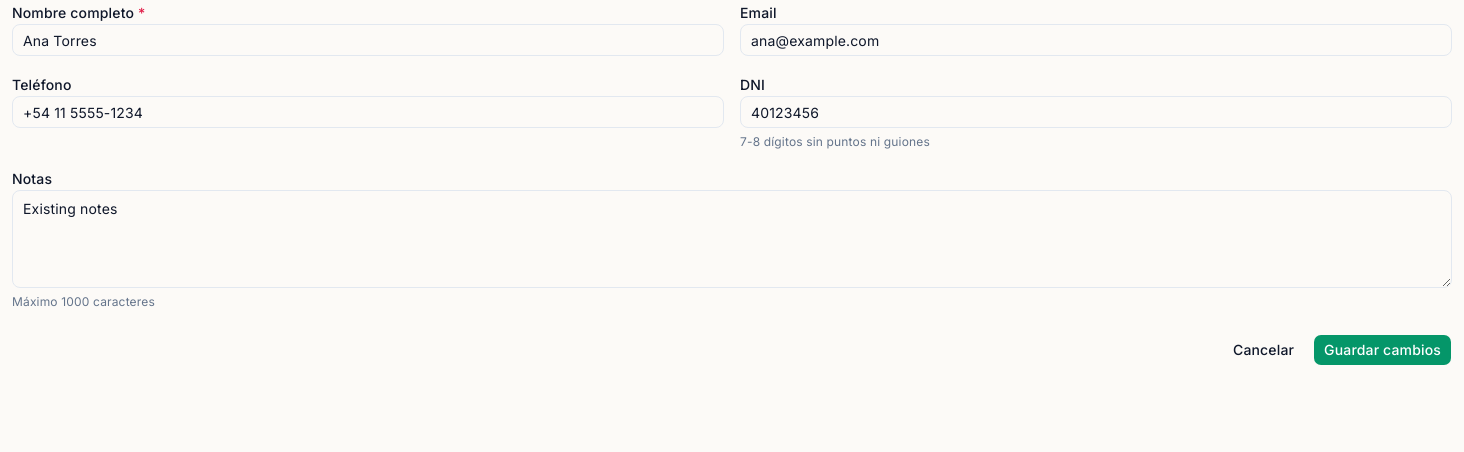
it: PatientForm — valid submit › displays the server error message inline when the action returns an error
Click the button "Guardar cambios". click: x=1383, y=350
box: [1313,334,1452,366]
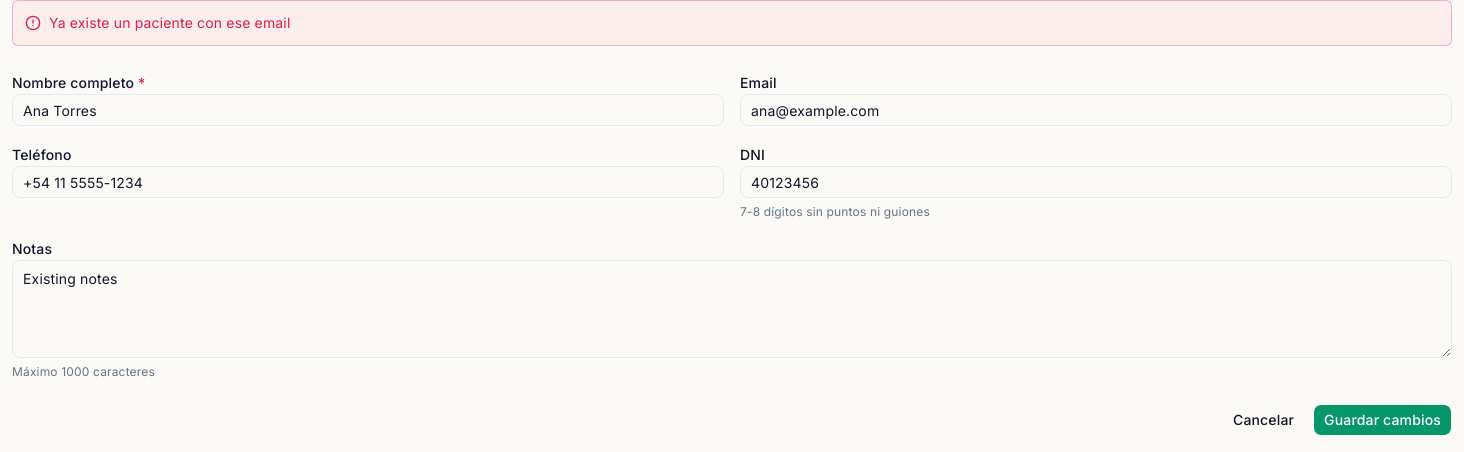
Now the text "Ya existe un paciente con ese email" is shown, box [49,13,290,33]
